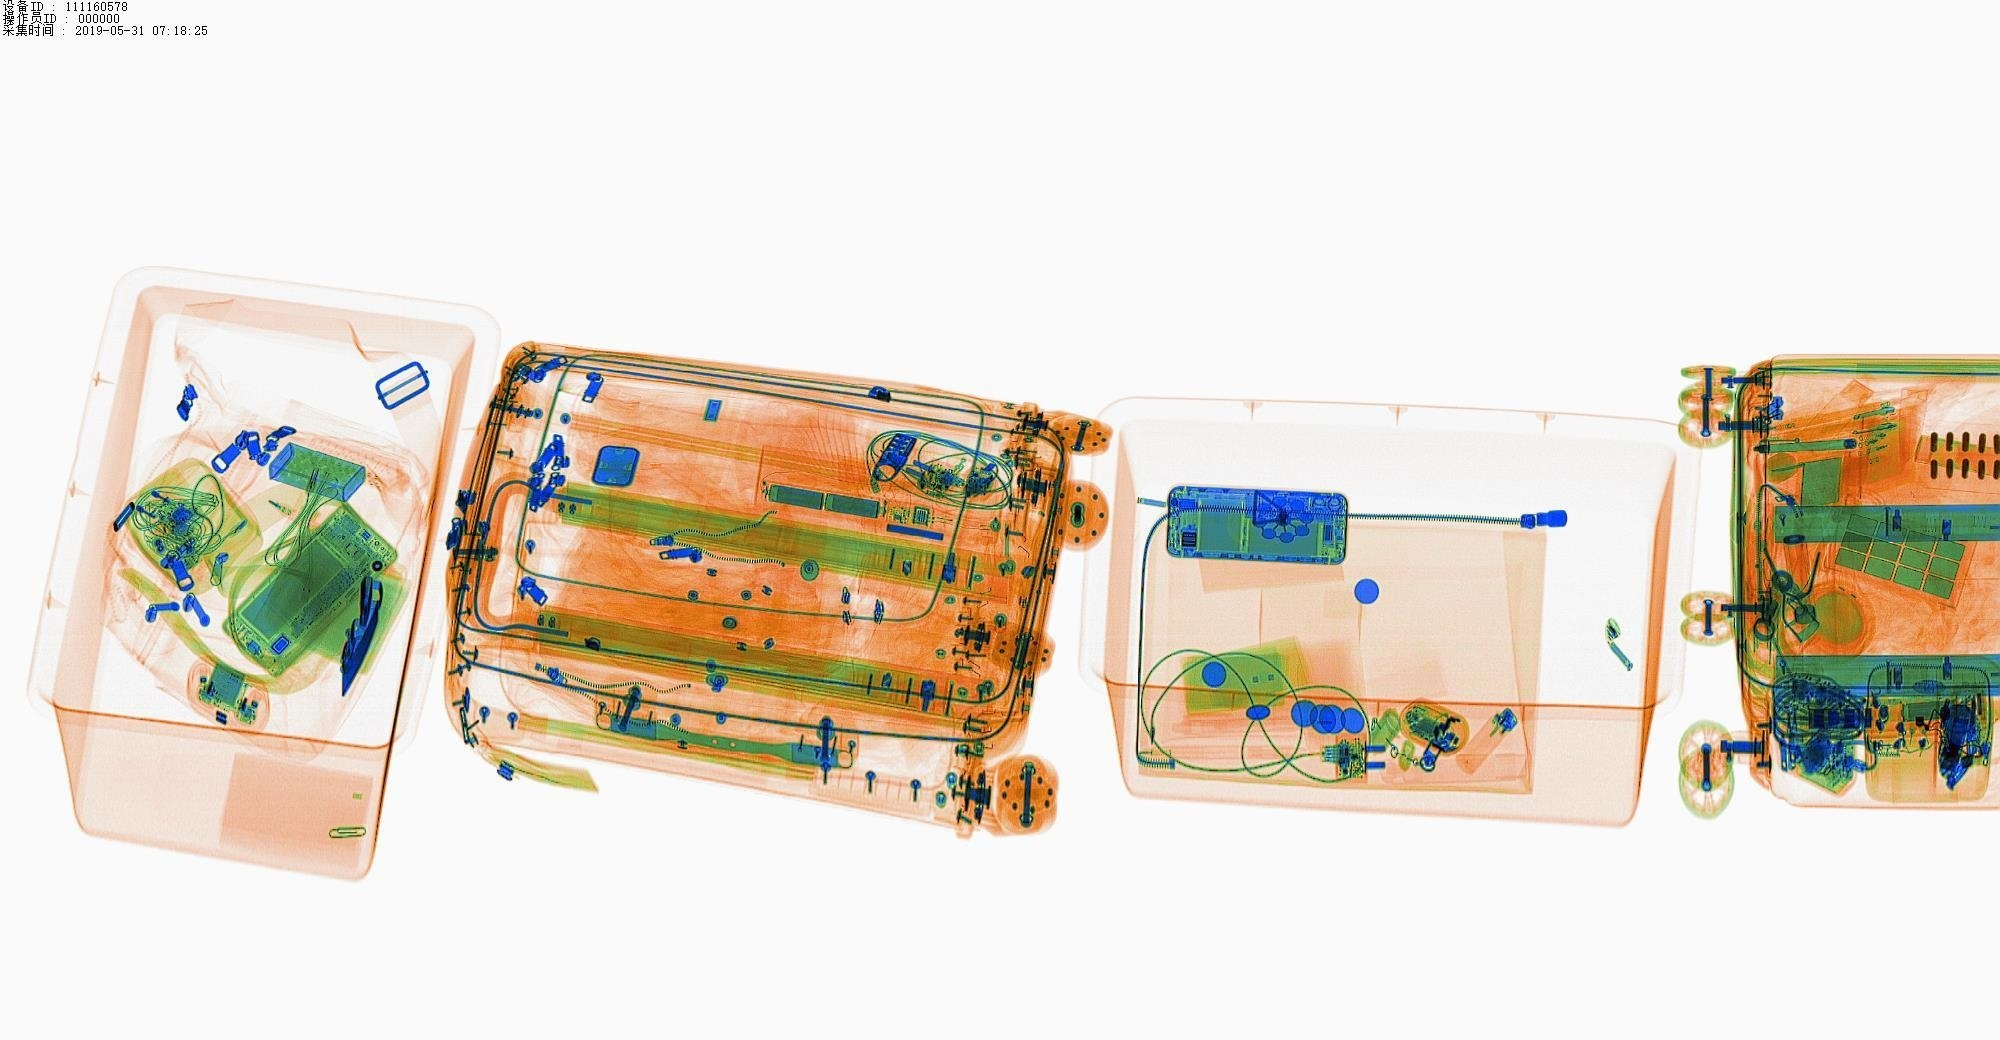NonmetallicFire: (1450, 684, 1522, 779)
